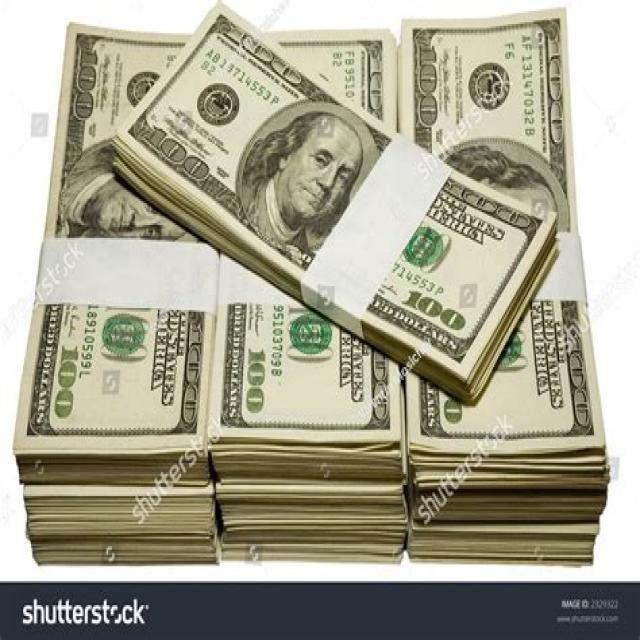Hundred: (125, 1, 556, 381), (402, 5, 605, 456), (15, 24, 208, 449), (210, 26, 395, 444)
